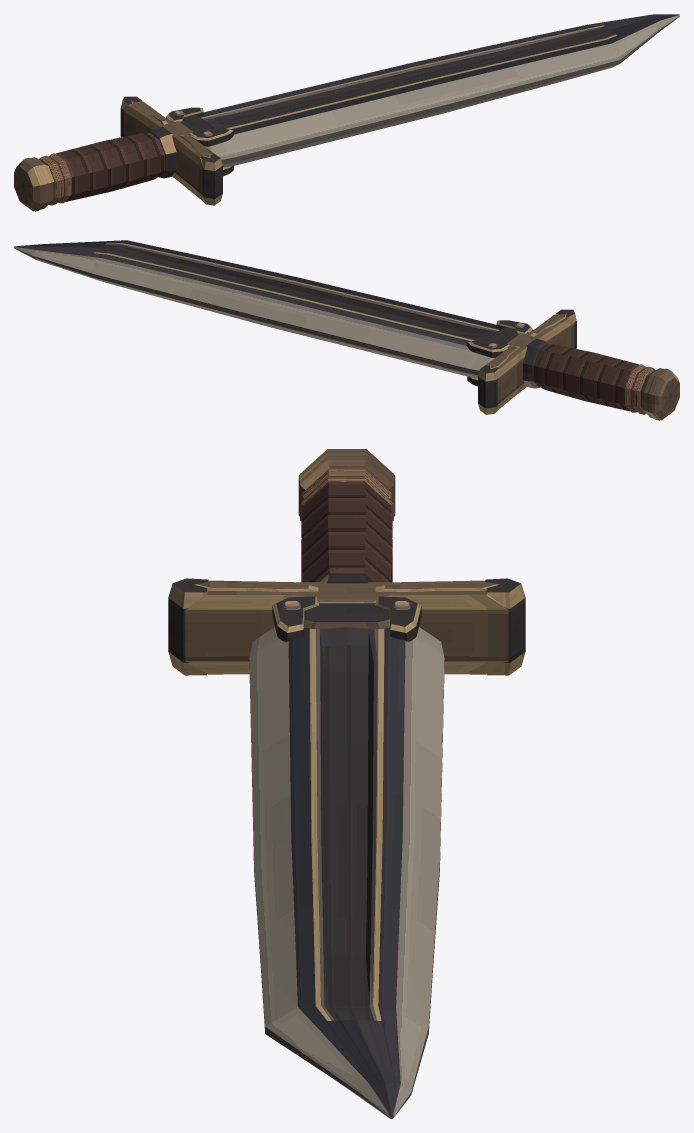
File: bench_xuantie_sword_5.obj
3 renders of one model, top to bottom at view 1: azimuth 30°, elevation 25°; view 2: azimuth 150°, elevation 25°; view 3: azimuth 270°, elevation 25°, orthographic. The views are drawn at different scales.
Parts seen in each view (by area): view 1: geometry; view 2: geometry; view 3: geometry.
Boxes of the visible parts, <box> form: geometry: <box>14,14,679,211</box>; geometry: <box>14,240,679,420</box>; geometry: <box>168,449,525,1118</box>.
Size of the model in its own units: 0.75 by 0.0488 by 0.1799.
